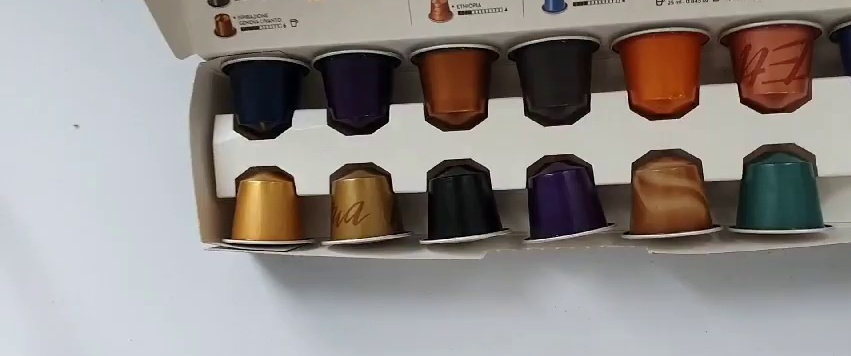capsule_1: (214, 53, 310, 138)
capsule_10: (419, 163, 512, 244)
capsule_11: (519, 153, 614, 240)
capsule_12: (619, 151, 722, 239)
capsule_13: (730, 147, 832, 238)
capsule_2: (312, 47, 400, 133)
capsule_3: (407, 43, 499, 128)
capsule_4: (505, 32, 601, 121)
capsule_5: (612, 23, 709, 117)
capsule_6: (722, 18, 823, 113)
capsule_8: (221, 166, 314, 252)
capsule_9: (322, 166, 414, 247)
